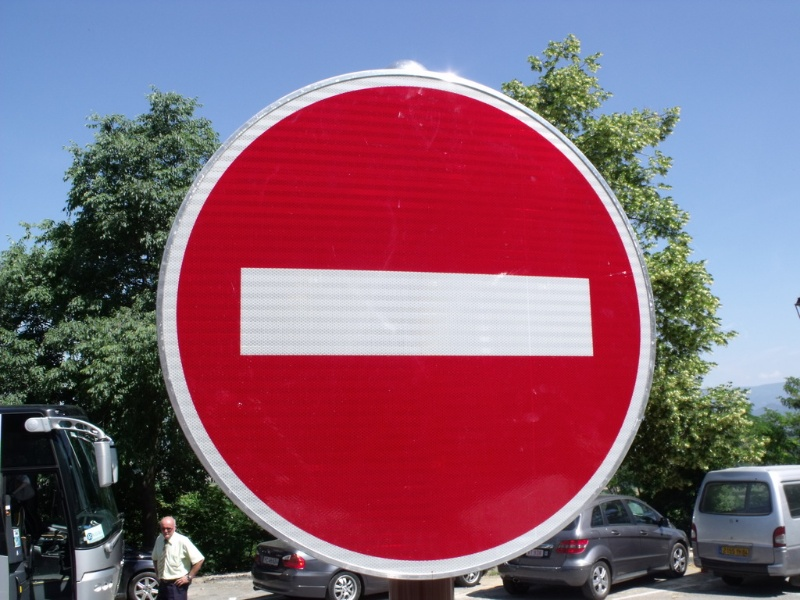no_entry: (149, 84, 650, 569)
